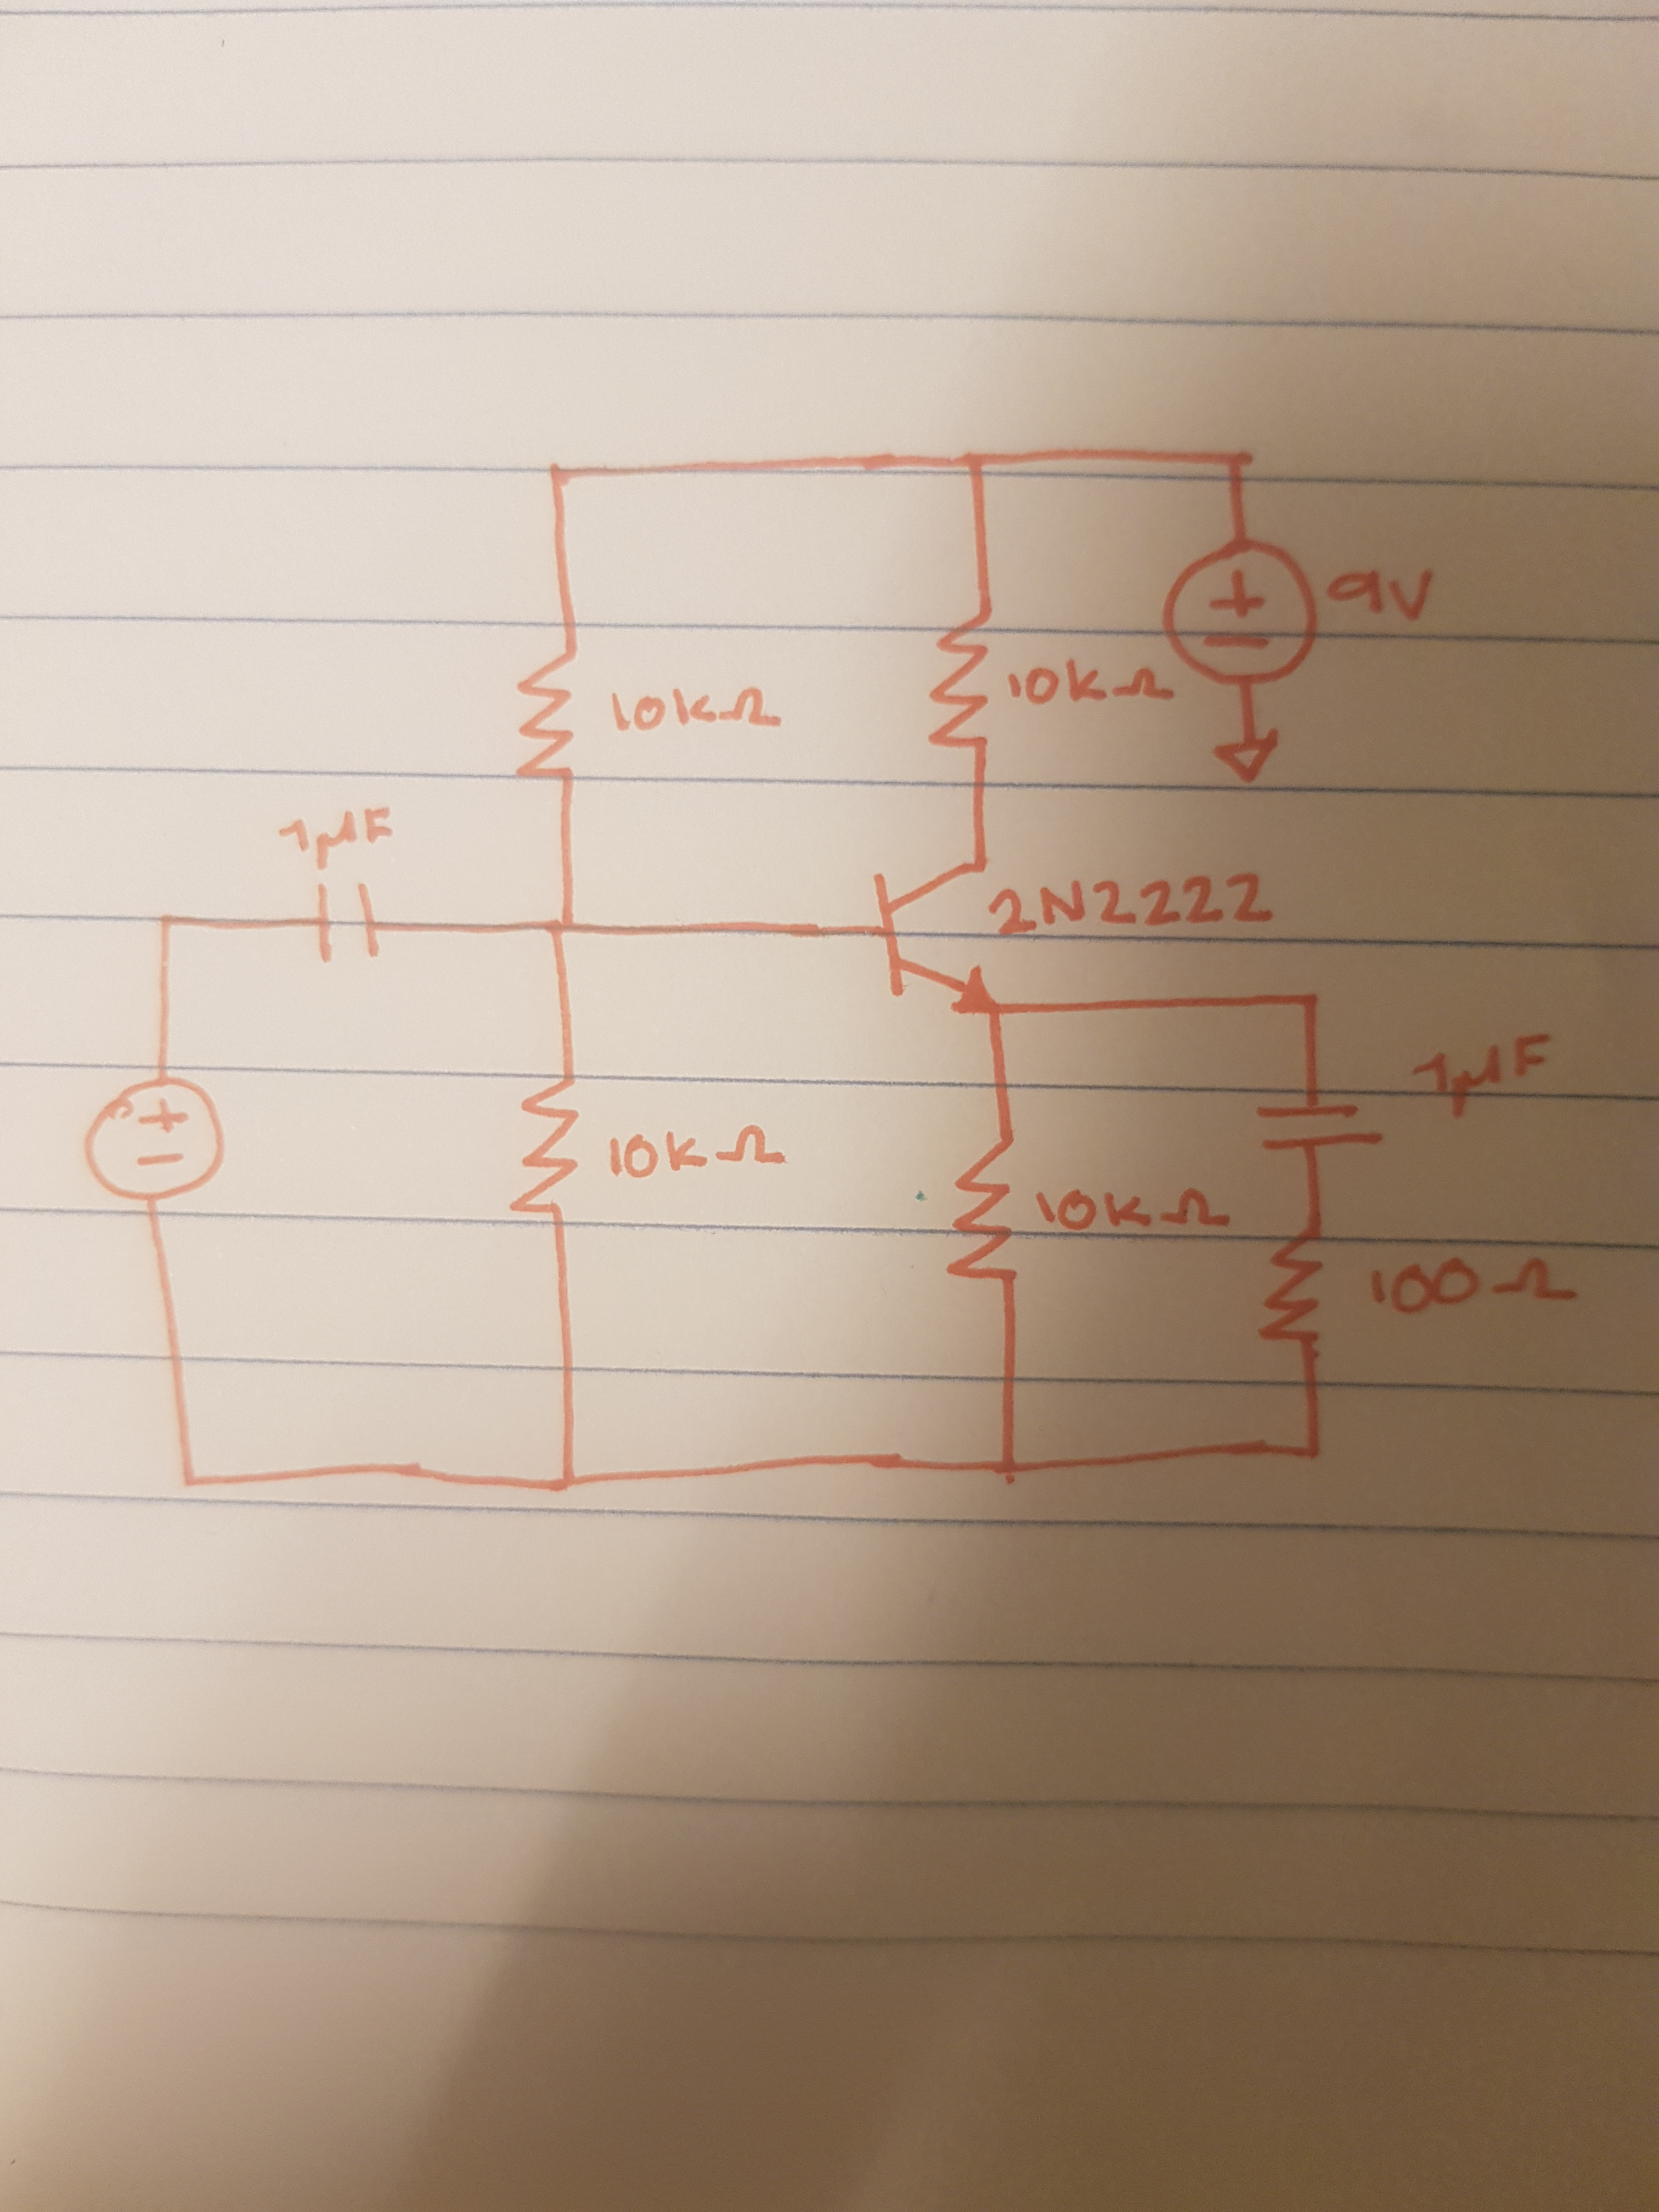capacitor.unpolarized: (1249, 1097, 1387, 1157), (314, 878, 389, 967)
gnd: (1211, 730, 1286, 787)
junction: (538, 909, 580, 942), (547, 1461, 580, 1503), (993, 1453, 1032, 1487), (542, 458, 577, 495), (1218, 446, 1260, 475), (962, 444, 995, 481), (153, 907, 186, 939), (1295, 1439, 1328, 1465), (1297, 989, 1324, 1017), (176, 1465, 202, 1494)
resistor: (939, 1137, 1021, 1287), (505, 1073, 582, 1221), (925, 606, 993, 752), (1255, 1226, 1335, 1350), (512, 651, 584, 784)
text: (988, 871, 1295, 942), (1405, 1028, 1563, 1123), (1364, 1252, 1586, 1315), (1026, 1181, 1234, 1242), (599, 1120, 793, 1176), (606, 681, 786, 738), (272, 799, 408, 873), (1002, 655, 1185, 707), (1323, 559, 1446, 636)
transistor: (870, 853, 1002, 1021)
voltage.dc: (1162, 542, 1317, 688), (82, 1075, 228, 1204)
